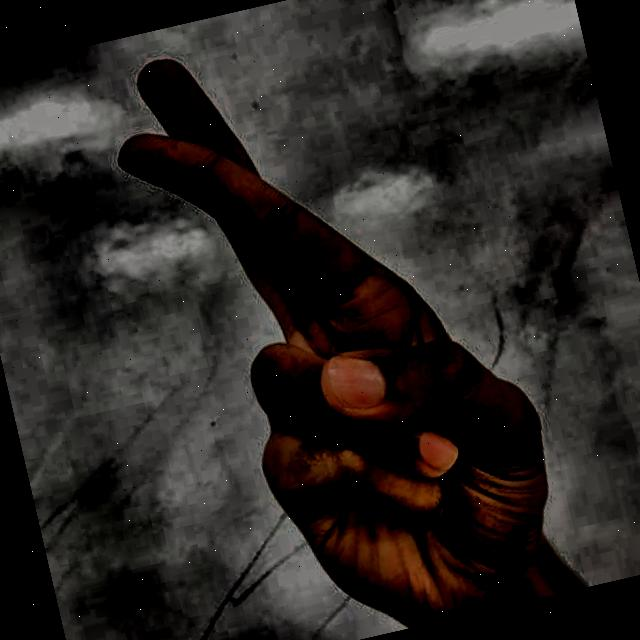Ra: (42, 0, 610, 640)
